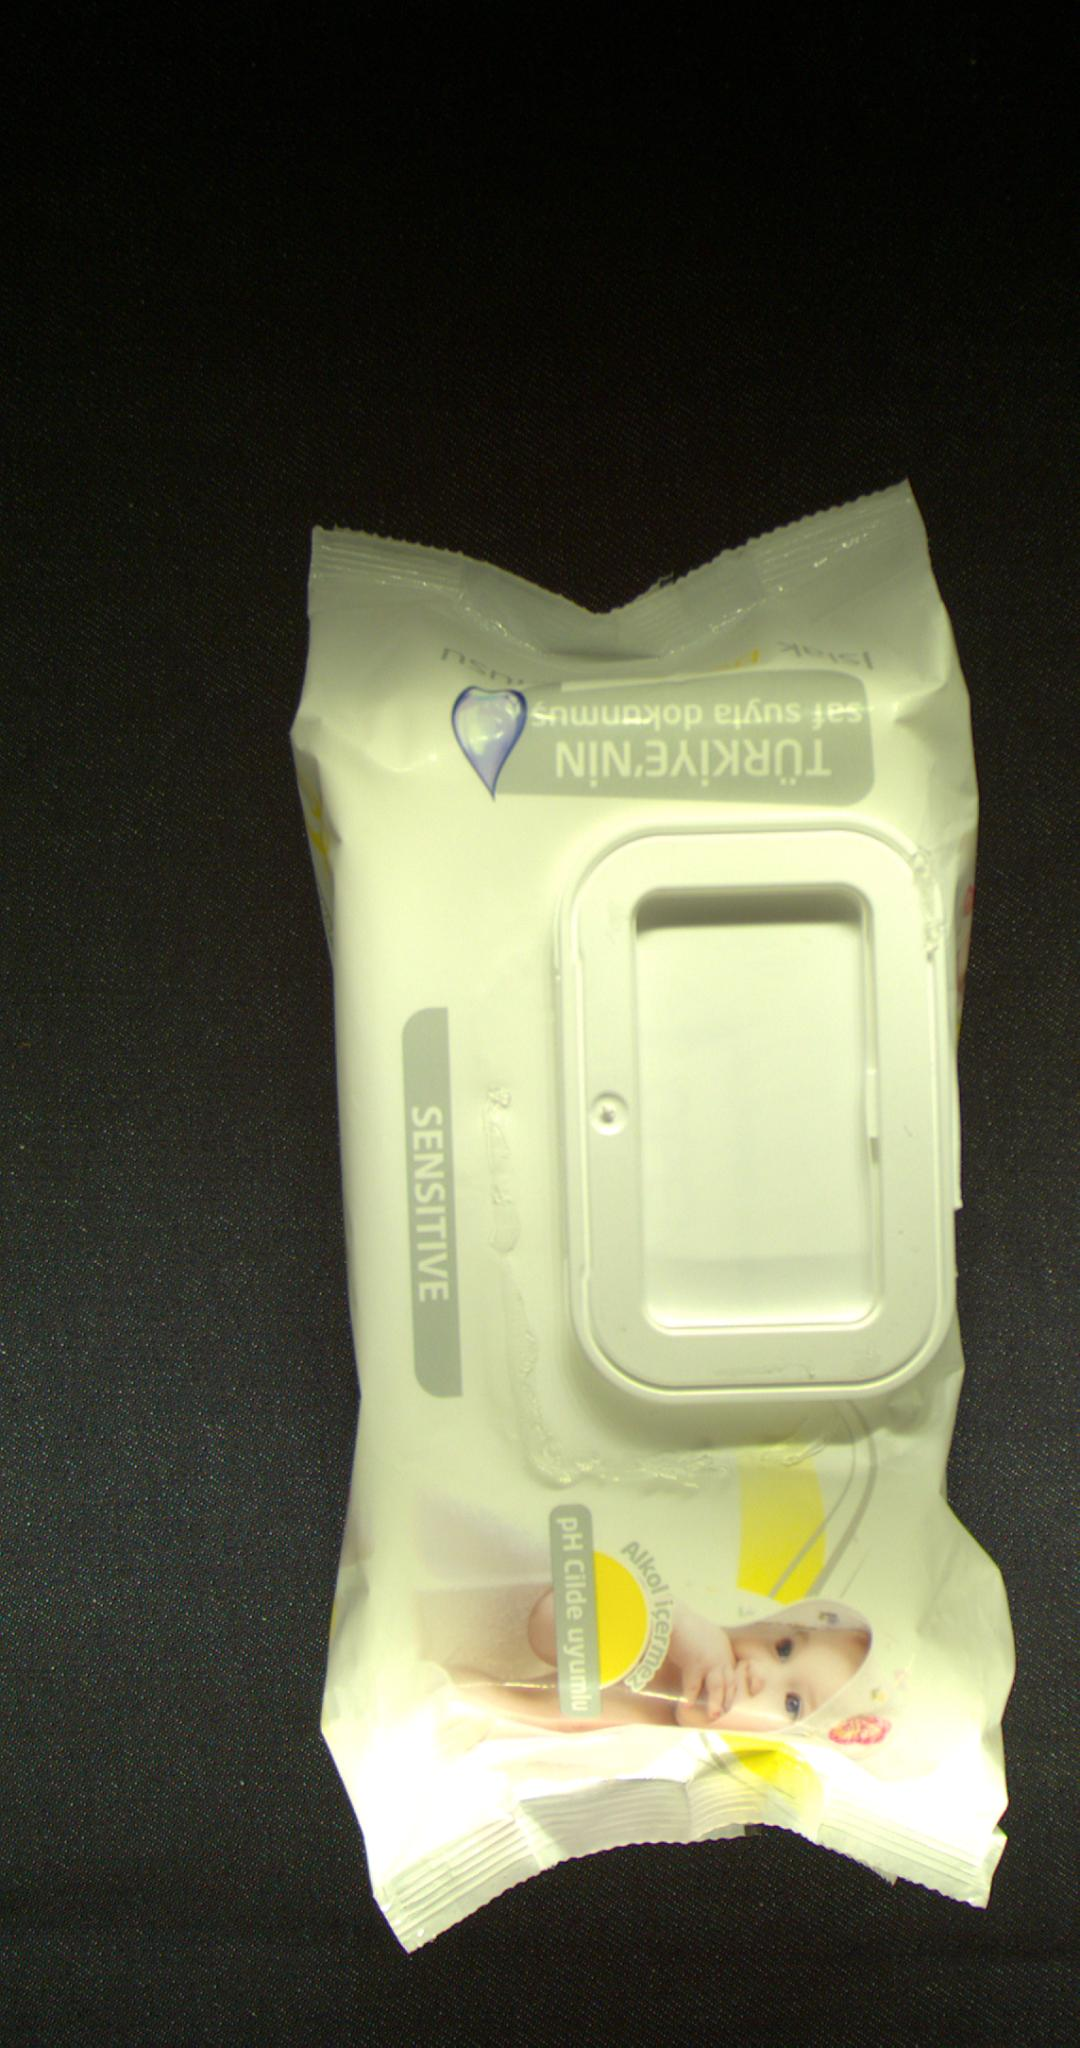hatali-kapak: (560, 815, 954, 1403)
